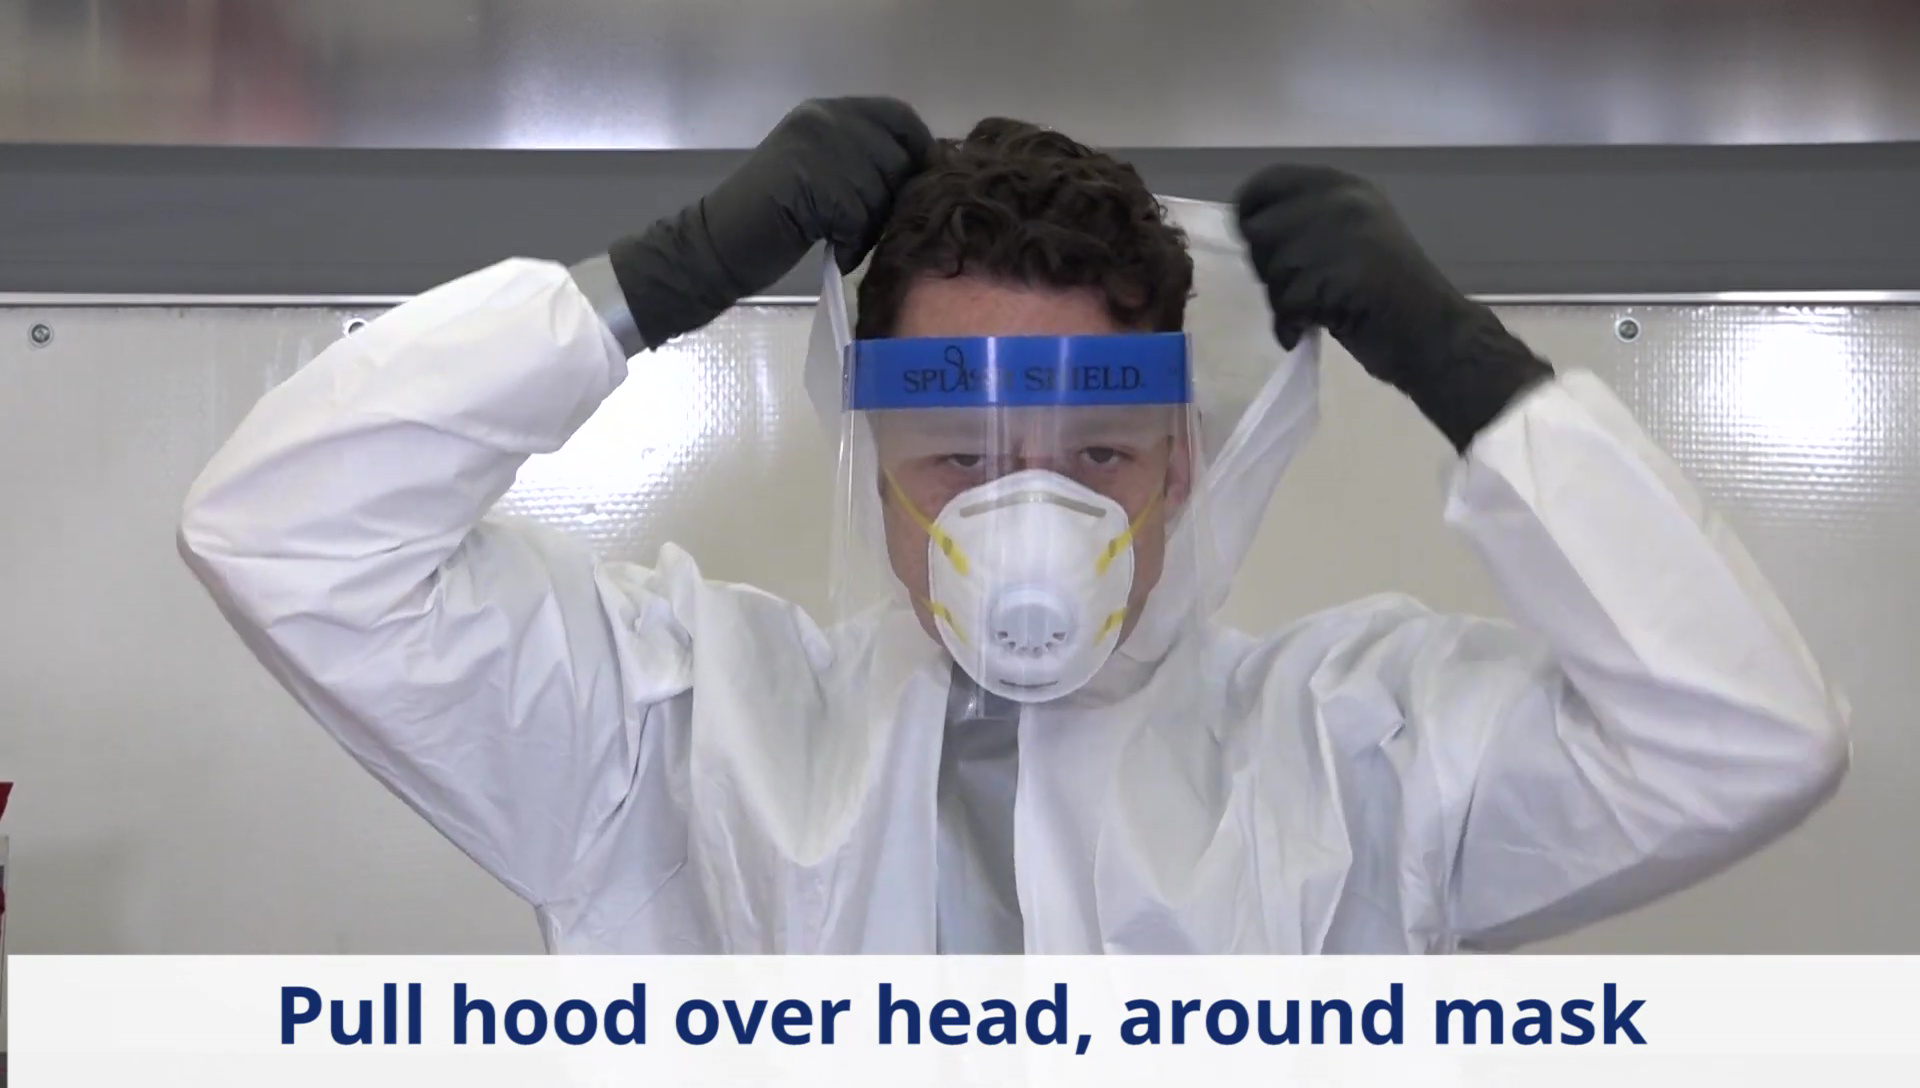Coverall: (178, 263, 1850, 951)
Face_Shield: (832, 328, 1216, 754)
Gloves: (1230, 163, 1551, 455), (605, 92, 934, 358)
with_mask: (906, 429, 1144, 707)
